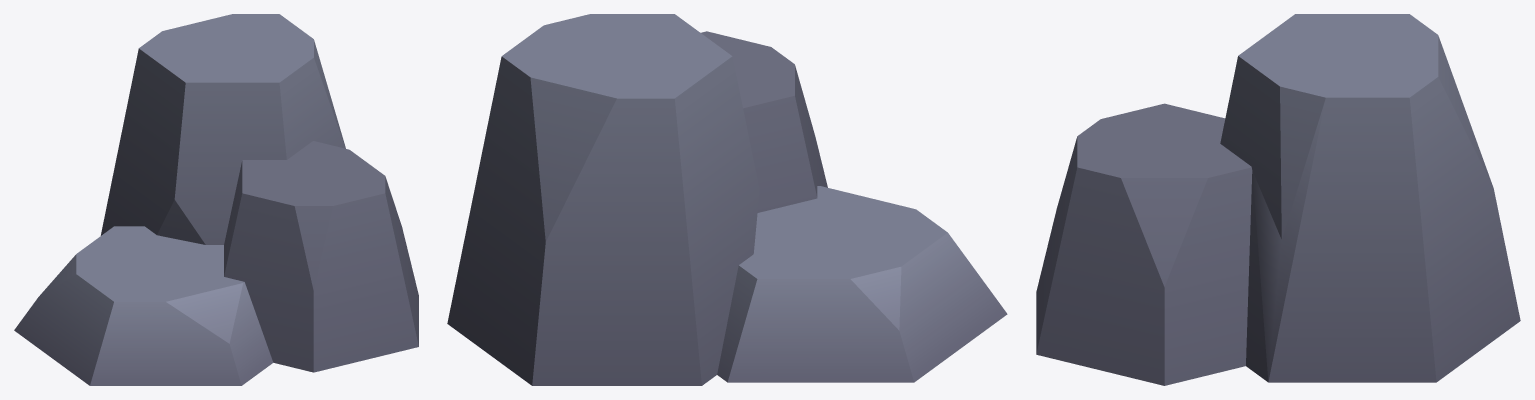
File: kenney-platformer__rocks.glb
3 renders of one model, left to right at view 1: azimuth 30°, elevation 25°; view 2: azimuth 150°, elevation 25°; view 3: azimuth 270°, elevation 25°, orthographic. The views are drawn at different scales.
Visible parts, largest first — view 1: rocks; view 2: rocks; view 3: rocks.
Boxes of the visible parts, <box> form: rocks: <box>14,14,418,385</box>; rocks: <box>447,14,1007,385</box>; rocks: <box>1036,14,1520,385</box>.
Size of the model in its own units: 0.6531 by 0.4 by 0.6623.
1 material, 1 textured.
